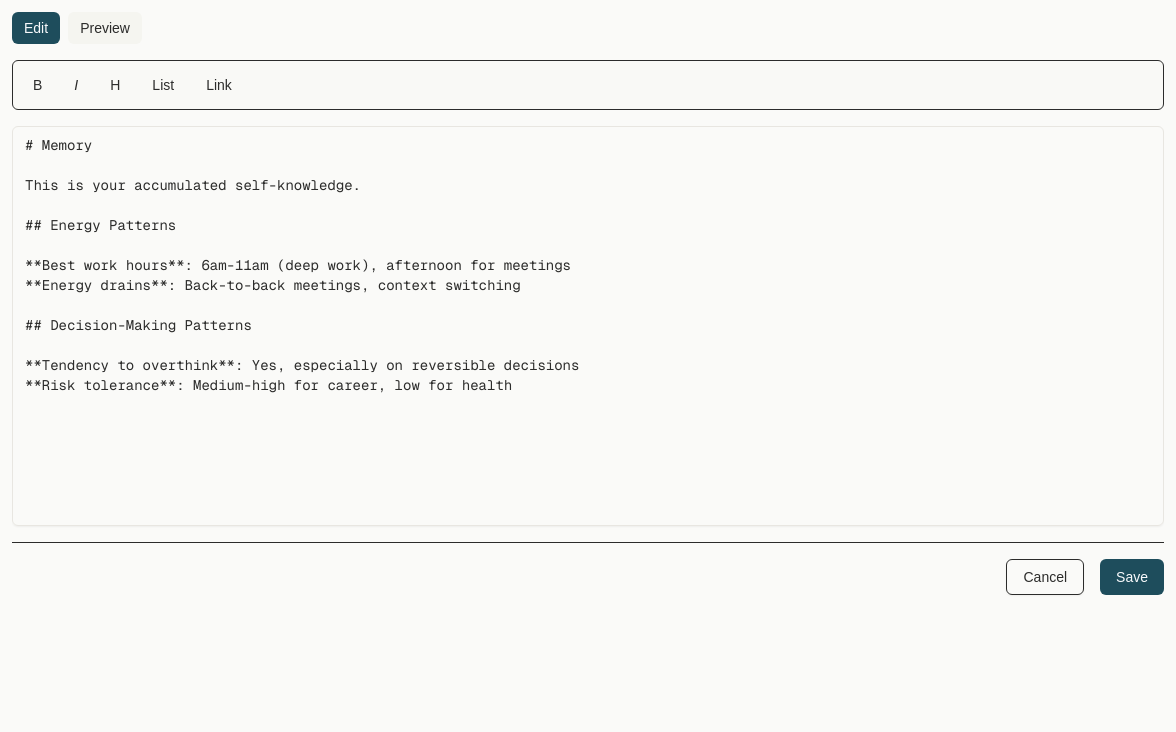
Scenario: AC2: MemoryEditor Component › Save Functionality (AC2) › should disable Save button while saving
Click the button "Save".
click(1132, 577)  # box [1100, 559, 1164, 595]
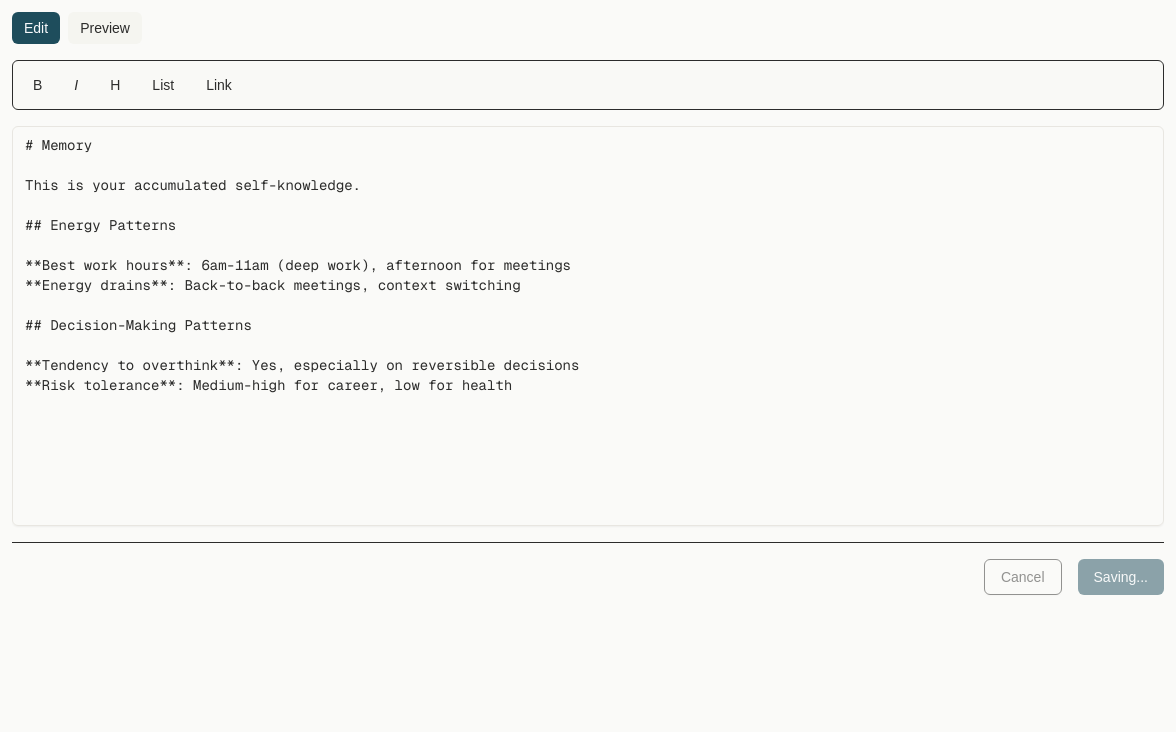
Expected: the button with aria-label "save" is disabled, [1078, 559, 1164, 595]
